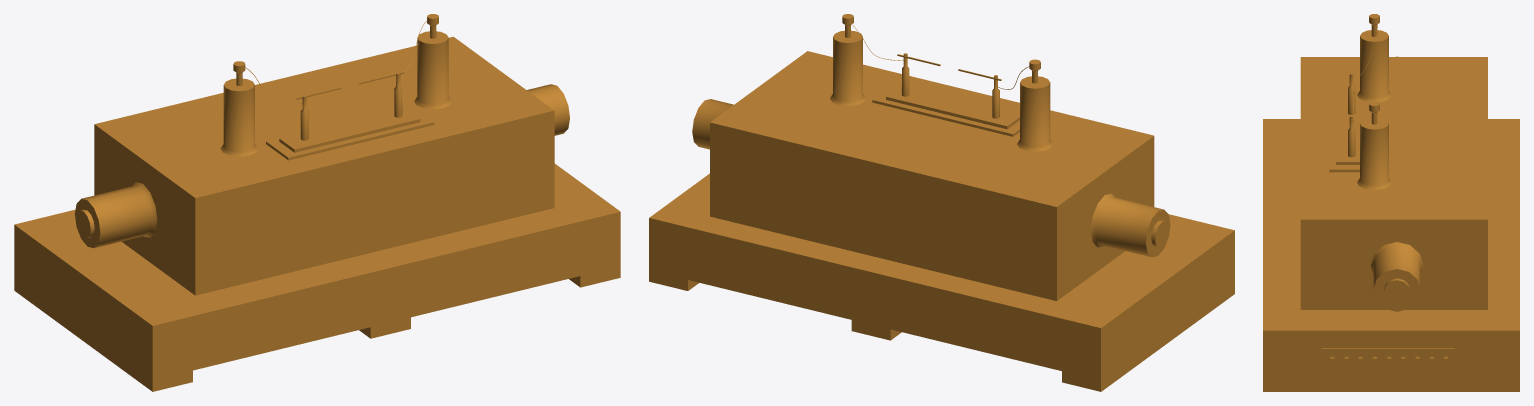
The model's file is SM_InductionCoil.fbx.
3 views of the same model, side by side, from view 1: azimuth 30°, elevation 25°; view 2: azimuth 150°, elevation 25°; view 3: azimuth 270°, elevation 25° (orthographic). The views are drawn at different scales.
Parts seen in each view (by area): view 1: invention_002.001; view 2: invention_002.001; view 3: invention_002.001.
Boxes of the visible parts, x1=… form: invention_002.001: x1=14, y1=14, x2=620, y2=391; invention_002.001: x1=649, y1=14, x2=1234, y2=391; invention_002.001: x1=1263, y1=14, x2=1519, y2=391.
Size of the model in its own units: 111 by 54.66 by 55.22.
